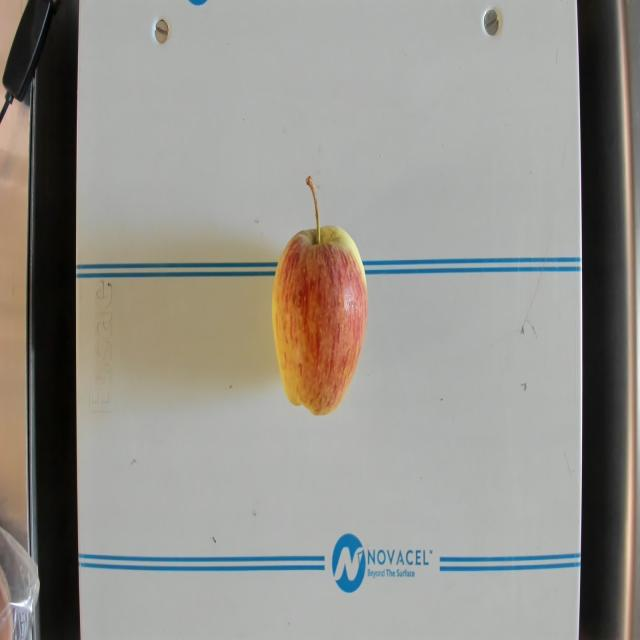apple: (271, 174, 370, 421)
